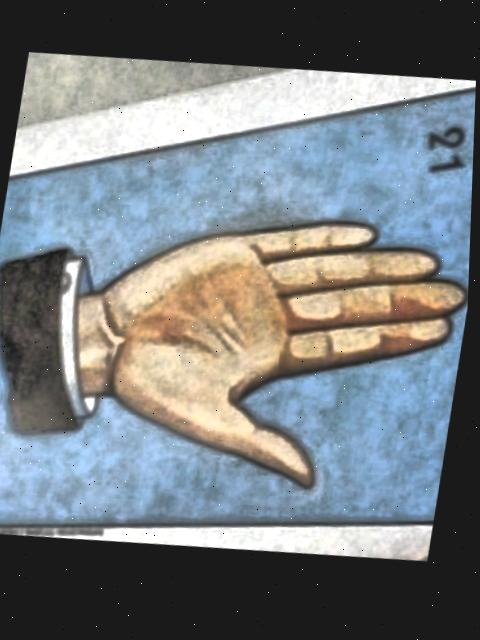La Mano: (0, 95, 477, 520)
